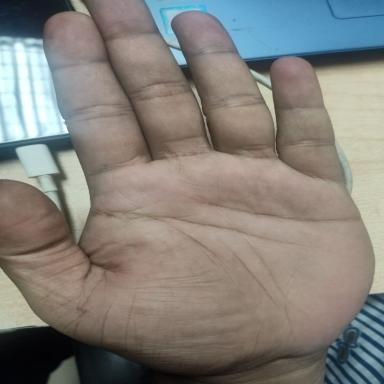normal skin: (1, 0, 374, 384)
